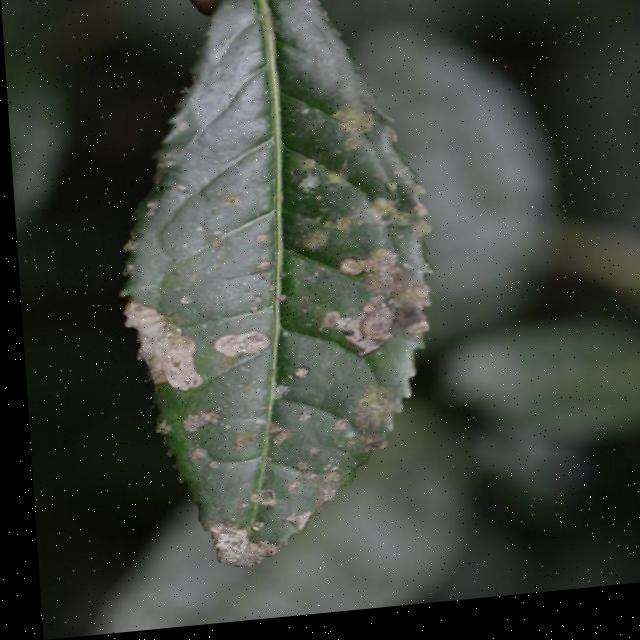Tea algae leaf spot: (129, 93, 433, 592)
